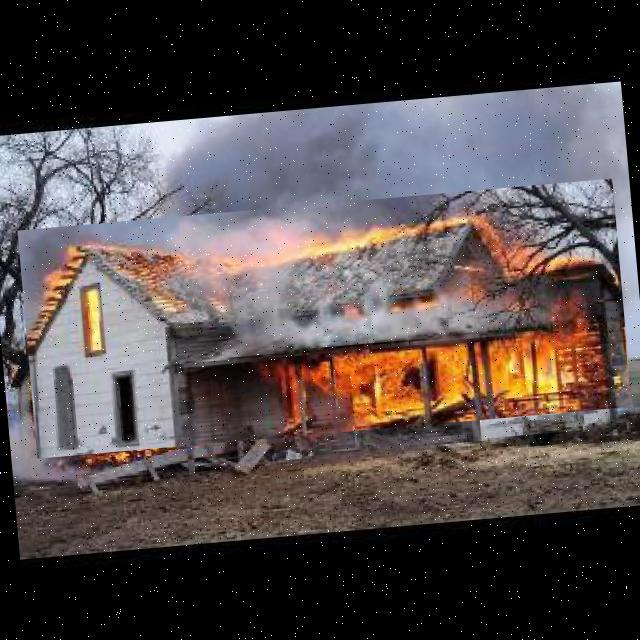fire: (17, 178, 632, 458)
